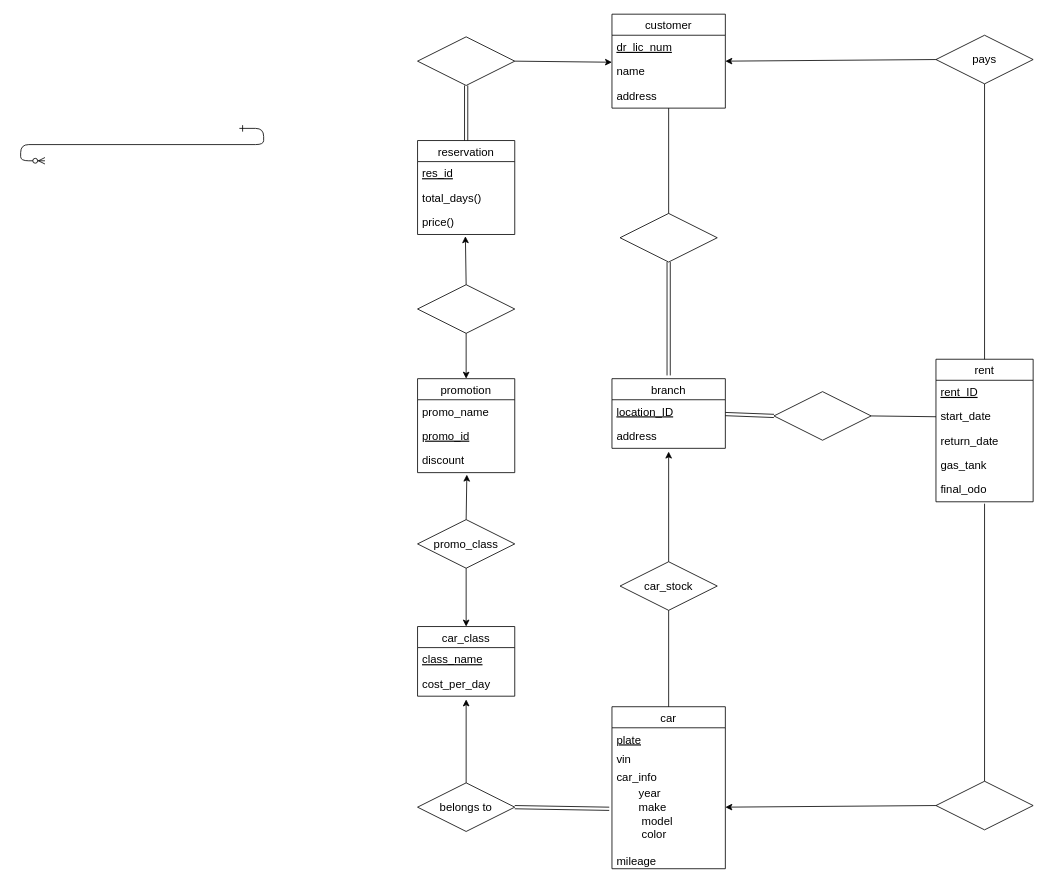
The diagram is 1047 pixels wide and 885 high, and some of its shapes have lost their labels. The centre of each missing label's shape, as x and y in pixels:
"car_list" belongs at point 984,805.
"cus_branch" belongs at point 668,237.
"cus_res" belongs at point 466,60.
"promo_res" belongs at point 466,308.
"rent_branch" belongs at point 822,415.
